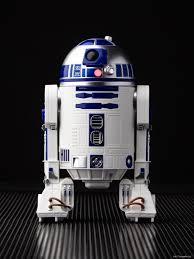r2d2: (37, 36, 156, 222)
